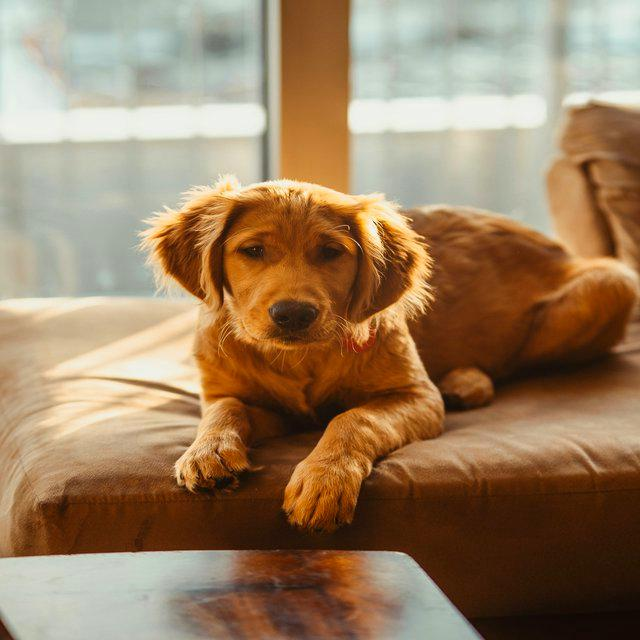retriever: (137, 173, 639, 533)
